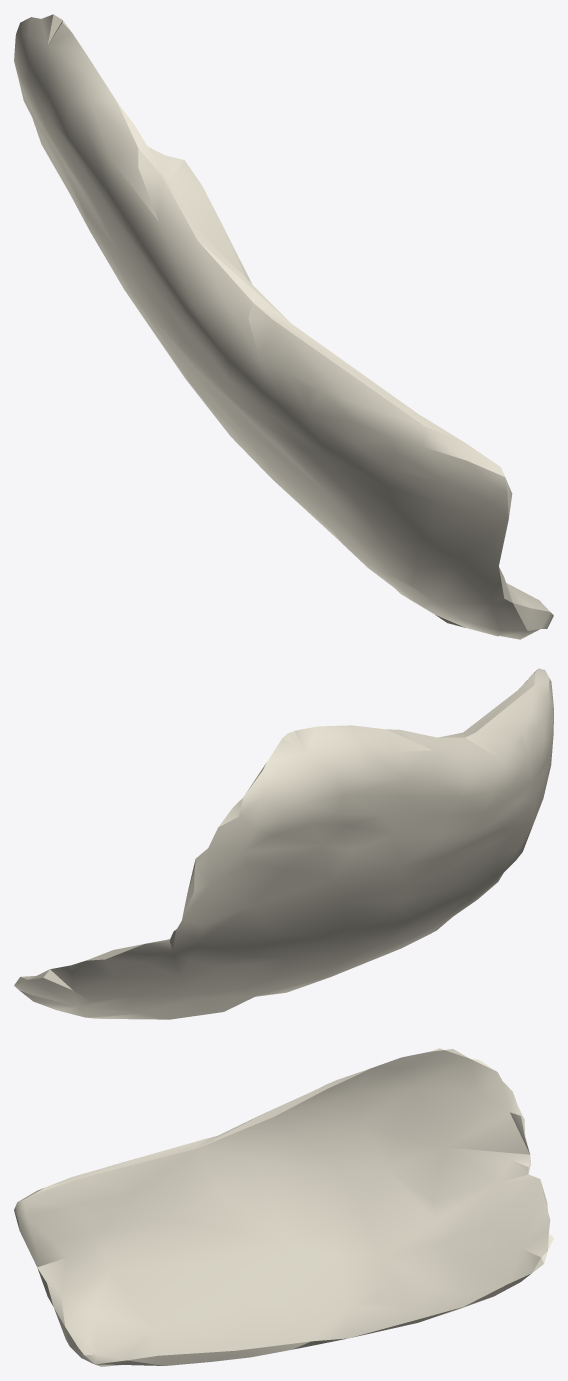
Rendered from fma321699-l_mm1458.glb.
3 views of the same model, one above another, from view 1: azimuth 30°, elevation 25°; view 2: azimuth 150°, elevation 25°; view 3: azimuth 270°, elevation 25° (orthographic). The views are drawn at different scales.
Parts seen in each view (by area): view 1: FMA321699-L_MM1458; view 2: FMA321699-L_MM1458; view 3: FMA321699-L_MM1458.
Part boxes in pixels (left/top/right/bottom): FMA321699-L_MM1458: left=14, top=14, right=553, bottom=639; FMA321699-L_MM1458: left=14, top=668, right=553, bottom=1019; FMA321699-L_MM1458: left=14, top=1048, right=553, bottom=1366.
Bounding box in the file's own units: 0.00257 × 0.00432 × 0.00794.
